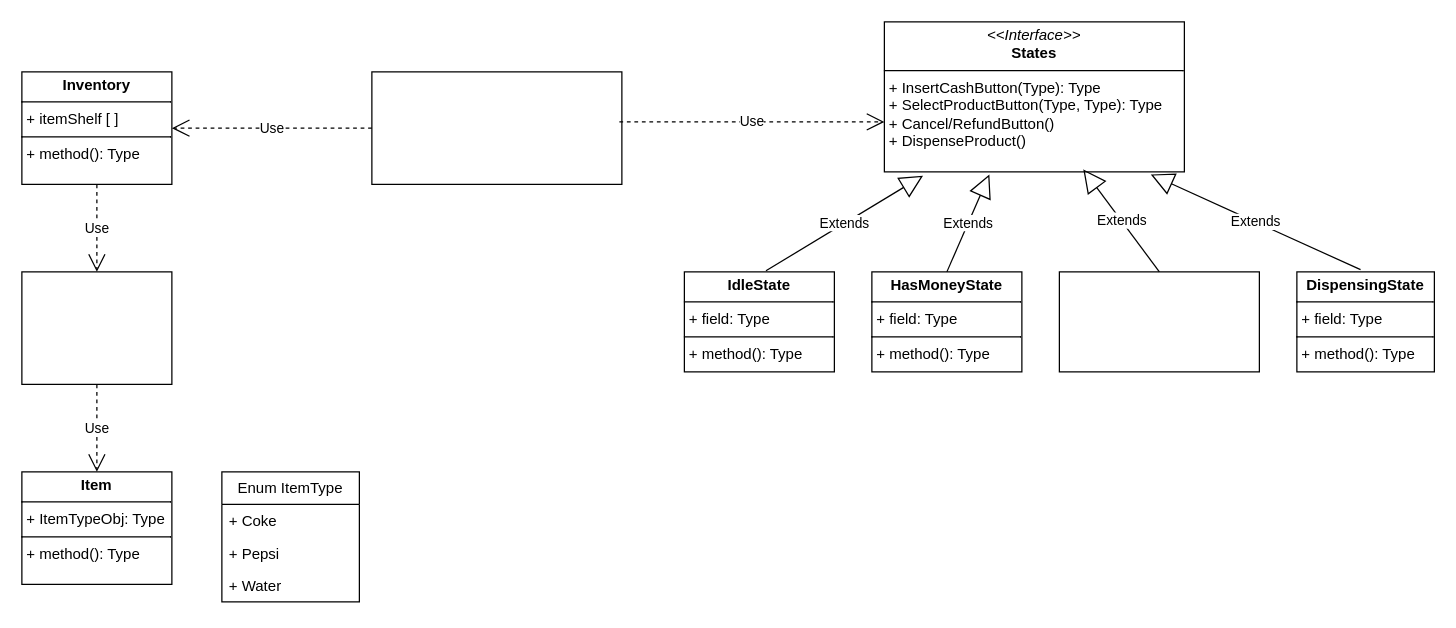
Image size: 1456x628. Some labels were removed from this diagram. Each missing label, with the box of its shape:
ItemShelf + itemObj + method(): Type: (21, 271, 172, 384)
ProductSelectionState + field: Type + method(): Type: (1058, 271, 1259, 372)
VendingMachine + VMStates: States + inventoryObj + method(): Type: (371, 71, 622, 184)
